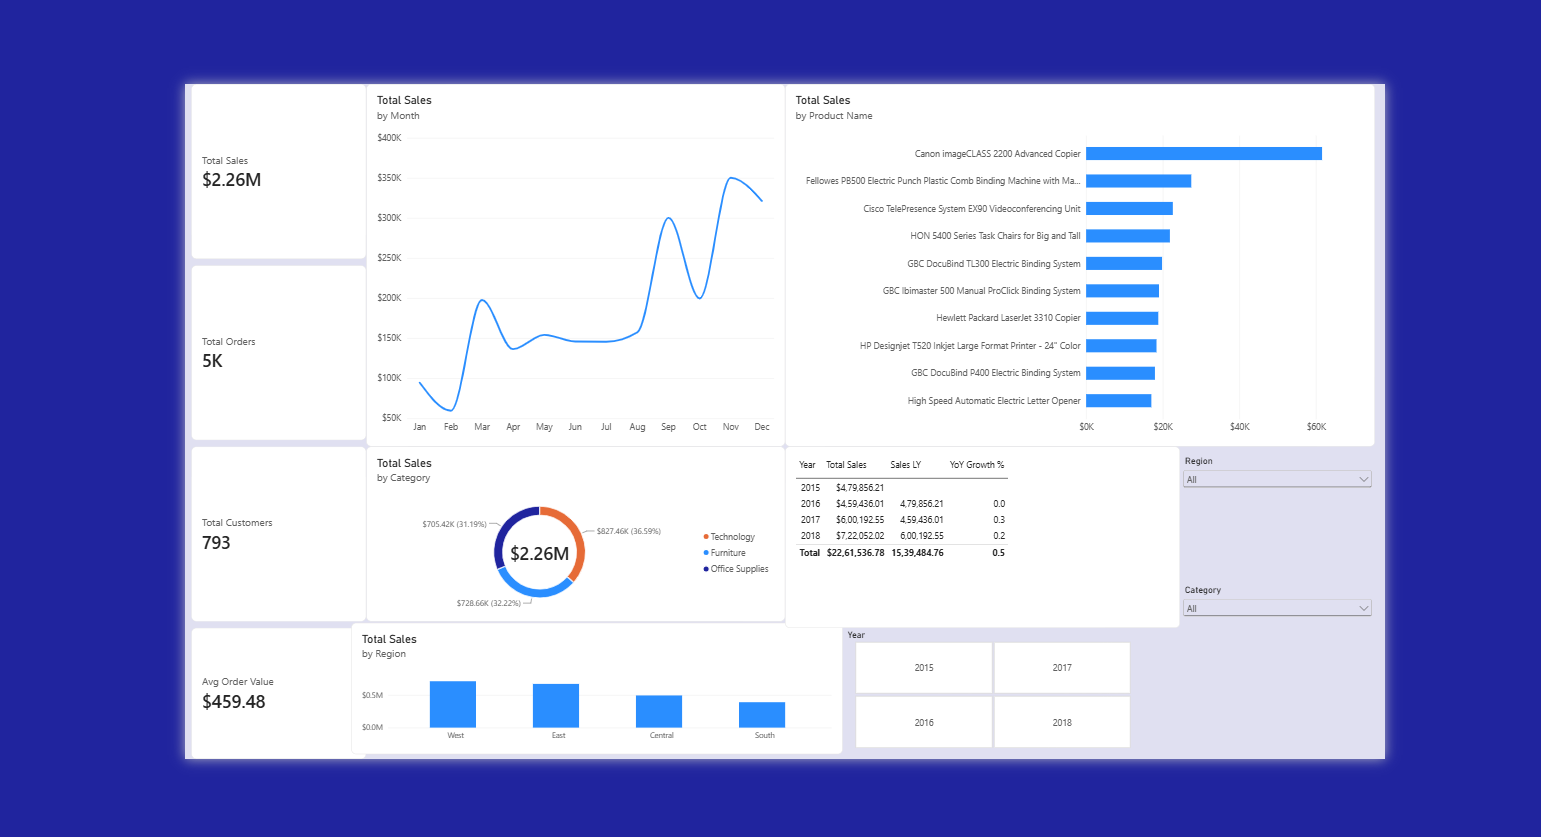

This screenshot's page, from the dashboard's own definition file:
{"tool":"powerbi","page":{"name":"Page 1","canvas":[1920,1080],"ordinal":0},"visuals":[{"type":"cardVisual","fields":{"Data":["sales.Total Sales"]},"box":[10,0,280,280],"z":0},{"type":"cardVisual","fields":{"Data":["sales.Total Orders"]},"box":[10,290,280,280],"z":1},{"type":"cardVisual","fields":{"Data":["sales.Total Customers"]},"box":[10,580,280,280],"z":2},{"type":"cardVisual","fields":{"Data":["sales.Avg Order Value"]},"box":[10,870,280,210],"z":3},{"type":"lineChart","fields":{"Category":["DateTable.Year","DateTable.Month"],"Y":["sales.Total Sales"]},"box":[290,0,670,580],"z":5},{"type":"clusteredBarChart","fields":{"Category":["sales.Product Name"],"Y":["sales.Total Sales"]},"box":[960,0,944,580],"z":6},{"type":"donutChart","fields":{"Category":["sales.Category"],"Y":["sales.Total Sales"]},"box":[290,580,670,280],"z":7},{"type":"clusteredColumnChart","fields":{"Category":["sales.Region"],"Y":["sales.Total Sales"]},"box":[266,862,786,210],"z":8},{"type":"tableEx","fields":{"Values":["DateTable.Year","sales.Total Sales","sales.Sales LY","sales.YoY Growth %"]},"box":[960,580,632,290],"z":9},{"type":"slicer","fields":{"Values":["DateTable.Year"]},"box":[1052,872,480,192],"z":10},{"type":"slicer","fields":{"Values":["sales.Region"]},"box":[1592,594,312,206],"z":11},{"type":"slicer","fields":{"Values":["sales.Category"]},"box":[1592,800,312,262],"z":12},{"type":"textbox","box":[100,100,300,300],"z":13},{"type":"textbox","box":[266,100,134,114],"z":14},{"type":"textbox","box":[510,116,300,300],"z":15},{"type":"textbox","box":[100,100,300,300],"z":16},{"type":"textbox","box":[10,0,198,400],"z":17}]}

Visuals, with their boxes on the page's 1920x1080 design canvas (x1, y1, x2, y2). These are canvas units, not pixel positions in the 1541x837 screenshot, which may show the page scaled, cropped or inside an application window:
cardVisual - sales.Total Sales: 10 0 290 280
cardVisual - sales.Total Orders: 10 290 290 570
cardVisual - sales.Total Customers: 10 580 290 860
cardVisual - sales.Avg Order Value: 10 870 290 1080
lineChart - DateTable.Year x DateTable.Month: 290 0 960 580
clusteredBarChart - sales.Product Name x sales.Total Sales: 960 0 1904 580
donutChart - sales.Category x sales.Total Sales: 290 580 960 860
clusteredColumnChart - sales.Region x sales.Total Sales: 266 862 1052 1072
tableEx - DateTable.Year x sales.Total Sales: 960 580 1592 870
slicer - DateTable.Year: 1052 872 1532 1064
slicer - sales.Region: 1592 594 1904 800
slicer - sales.Category: 1592 800 1904 1062
textbox: 100 100 400 400
textbox: 266 100 400 214
textbox: 510 116 810 416
textbox: 100 100 400 400
textbox: 10 0 208 400
